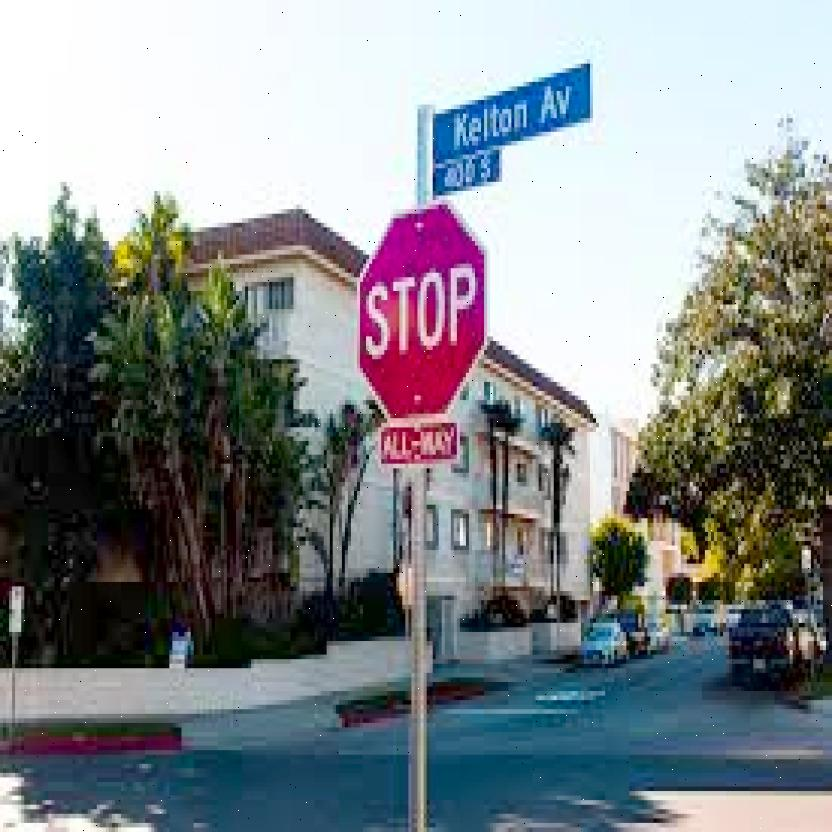Pole: (409, 466, 427, 826)
Sign: (354, 200, 490, 418)
